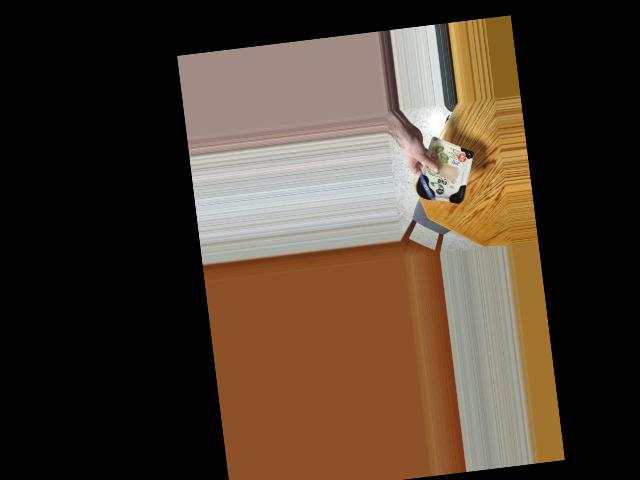cheese: (414, 143, 477, 211)
